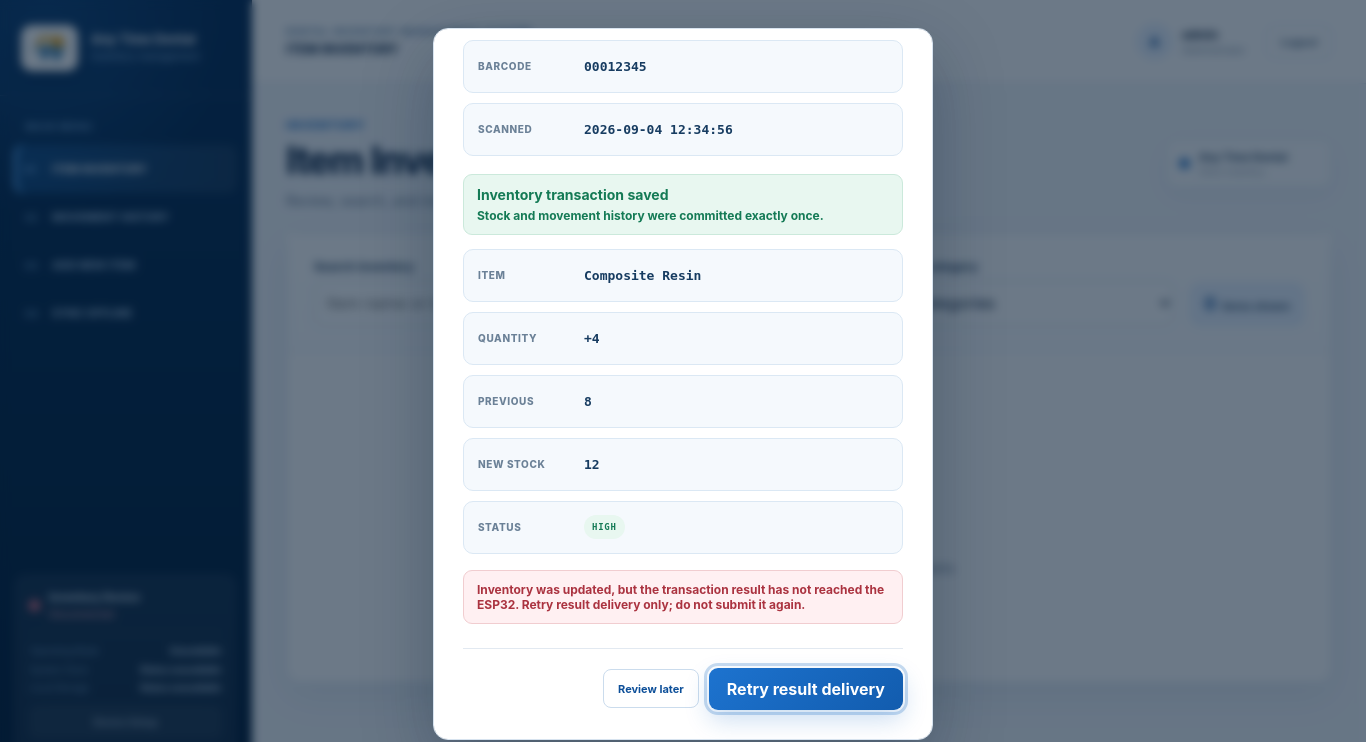
Scenario: Phase 5 Step 2 hardware inventory transaction › recovers result-delivery state after restart and preserves it through Review later
This screenshot has width=1366, height=742.
(page scrolled)
Expected: the heading "Inventory transaction saved" is shown, x1=477 y1=186 x2=668 y2=203
Expected: the button "Retry result delivery" is enabled, x1=709 y1=668 x2=903 y2=710
Click the button "Review later" at (651, 689), box x1=603 y1=669 x2=699 y2=708
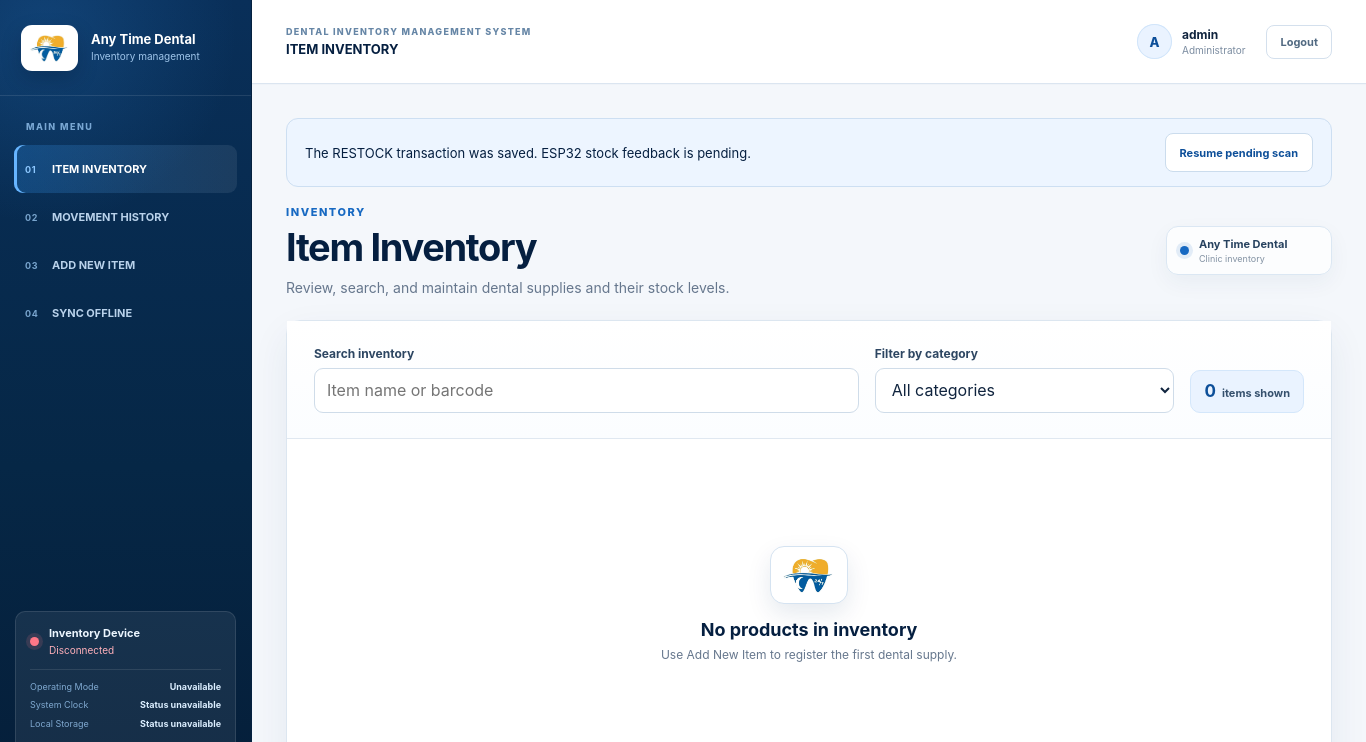
Now the text "The RESTOCK transaction was saved. ESP32 stock feedback is pending." is shown, box x1=305 y1=144 x2=751 y2=160
Click the button "Resume pending scan" at (1239, 152), box x1=1164 y1=133 x2=1313 y2=172
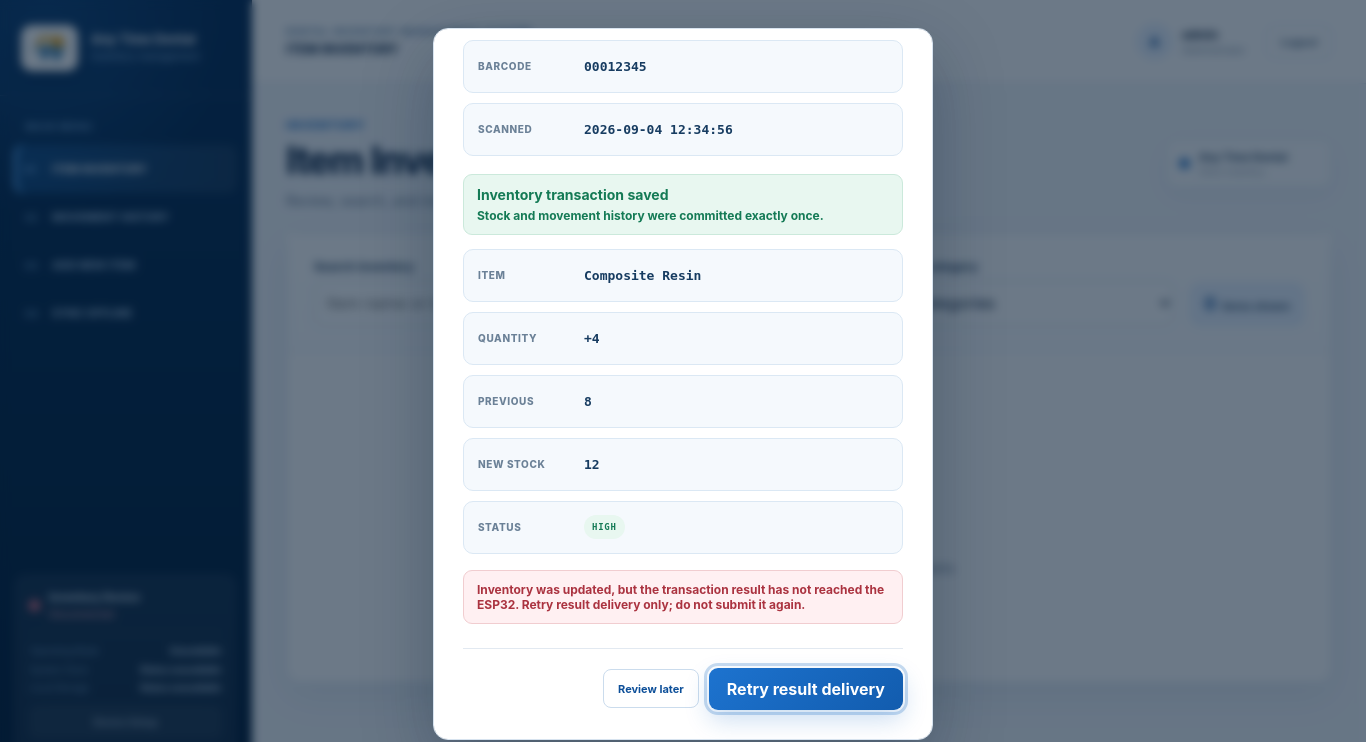
Now the button "Retry result delivery" is enabled, box x1=709 y1=668 x2=903 y2=710
